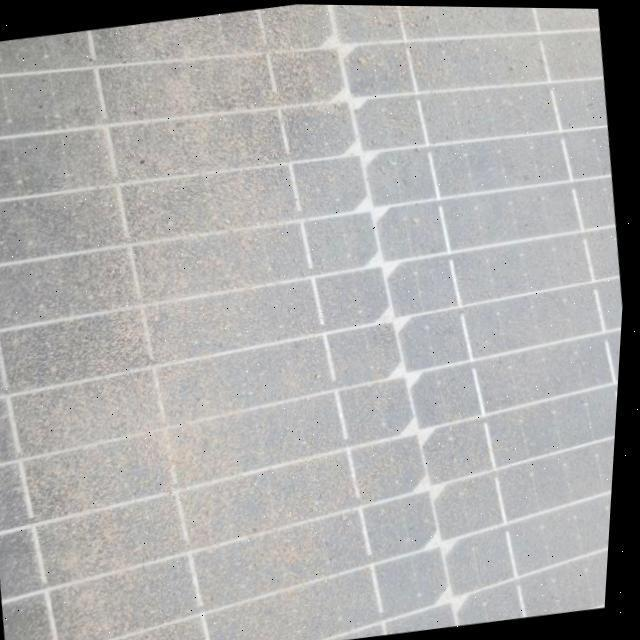Surface Contaminant: (290, 3, 622, 629)
